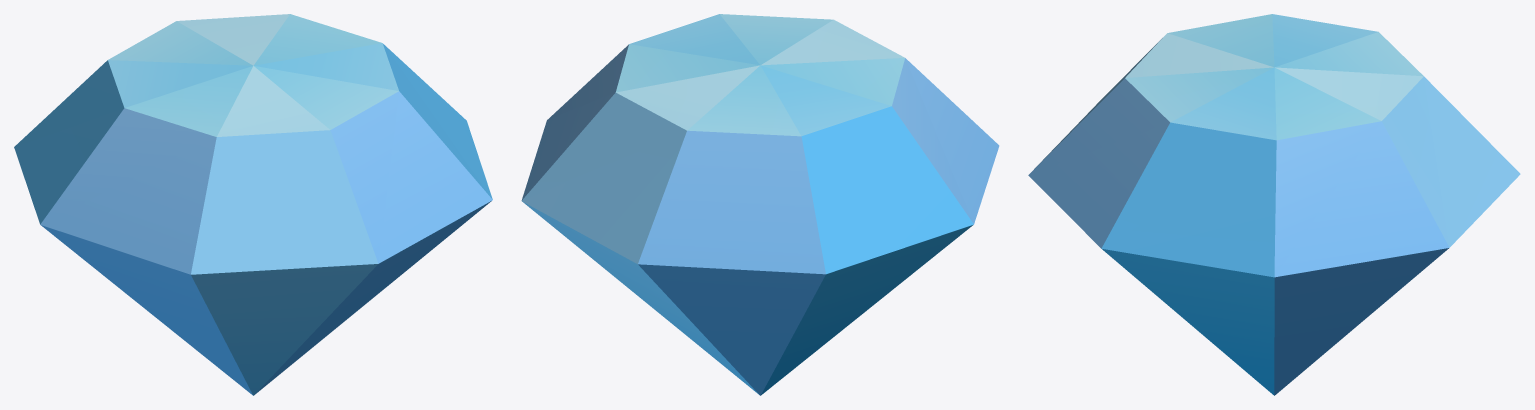
The model's file is Diamond_Boi_Coin.FBX.
3 renders of one model, left to right at view 1: azimuth 30°, elevation 25°; view 2: azimuth 150°, elevation 25°; view 3: azimuth 270°, elevation 25°, orthographic.
Visible parts, largest first — view 1: Sphere003; view 2: Sphere003; view 3: Sphere003.
Part boxes in pixels (bbox=[...]): Sphere003: bbox=[14, 14, 492, 395]; Sphere003: bbox=[521, 14, 999, 395]; Sphere003: bbox=[1028, 14, 1520, 395].
Size of the model in its own units: 0.5548 by 0.4104 by 0.5576.
1 material, 1 textured.
